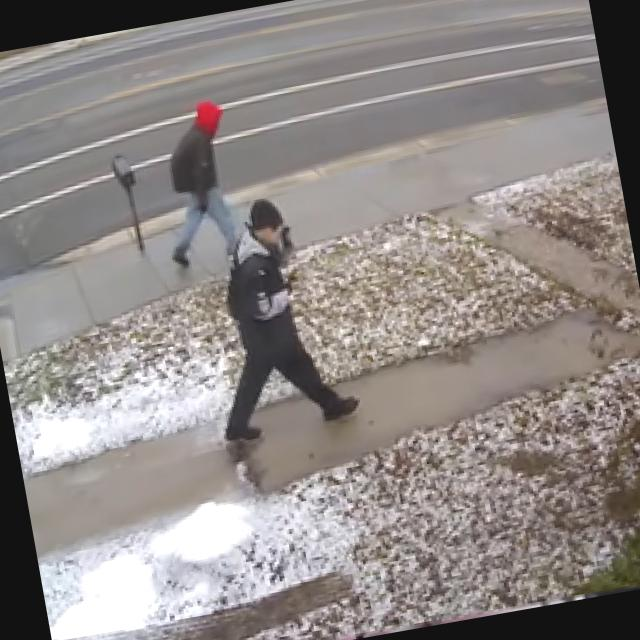person: (184, 188, 363, 446), (146, 97, 248, 270)
